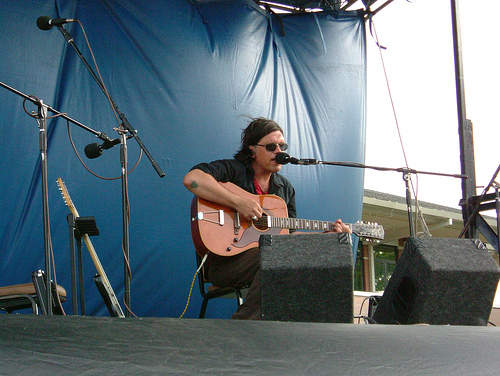guitar: (190, 177, 387, 260)
